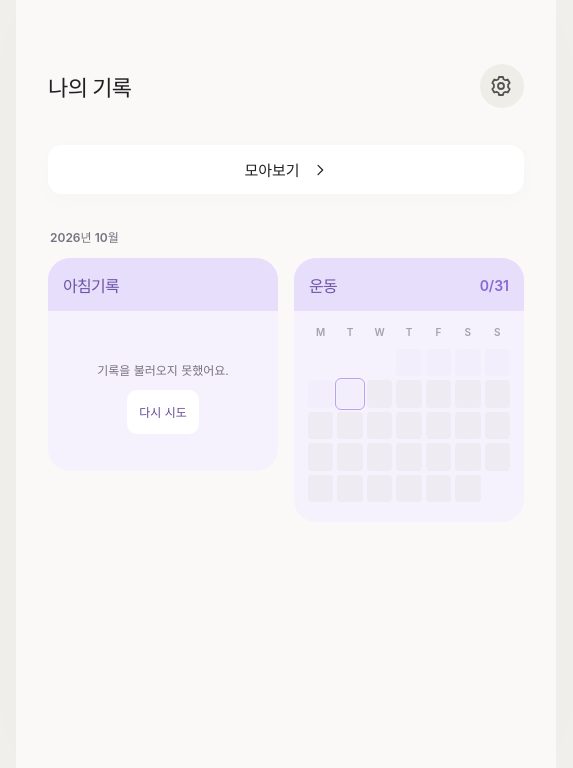
Test: main screen with API › lets one failed card retry while keeping successful cards visible
The width and height of the screenshot is (573, 768).
expect the message "기록을 불러오지 못했어요." is shown: met, box x1=97 y1=360 x2=229 y2=378
expect the link "운동 0/31 M T W T F S S" is shown: met, box x1=294 y1=258 x2=524 y2=522
Click the button "다시 시도": (163, 412) x1=127 y1=390 x2=199 y2=434
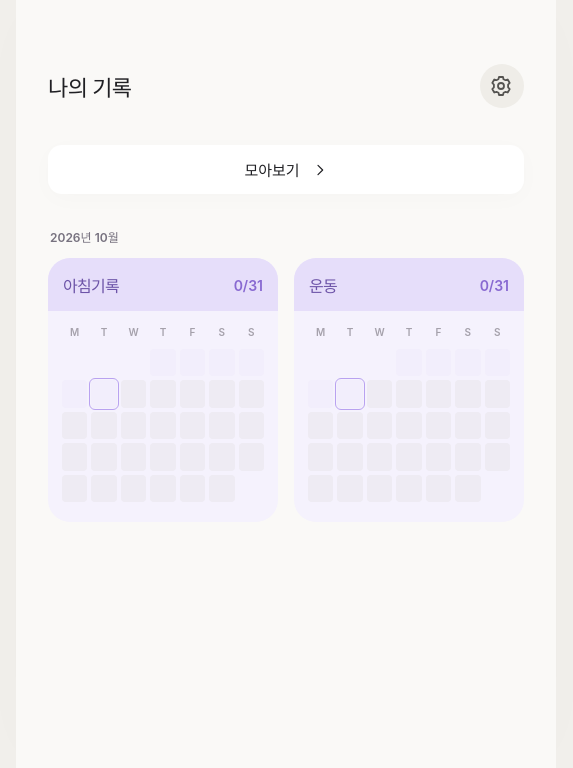
expect the link "아침기록 0/31 M T W T F S S" is shown: met, box x1=48 y1=258 x2=278 y2=522
